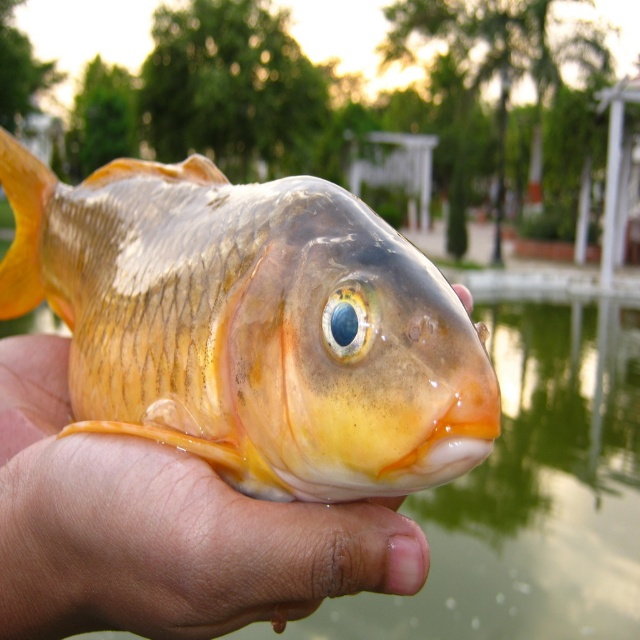Goldfish: (0, 125, 503, 505)
